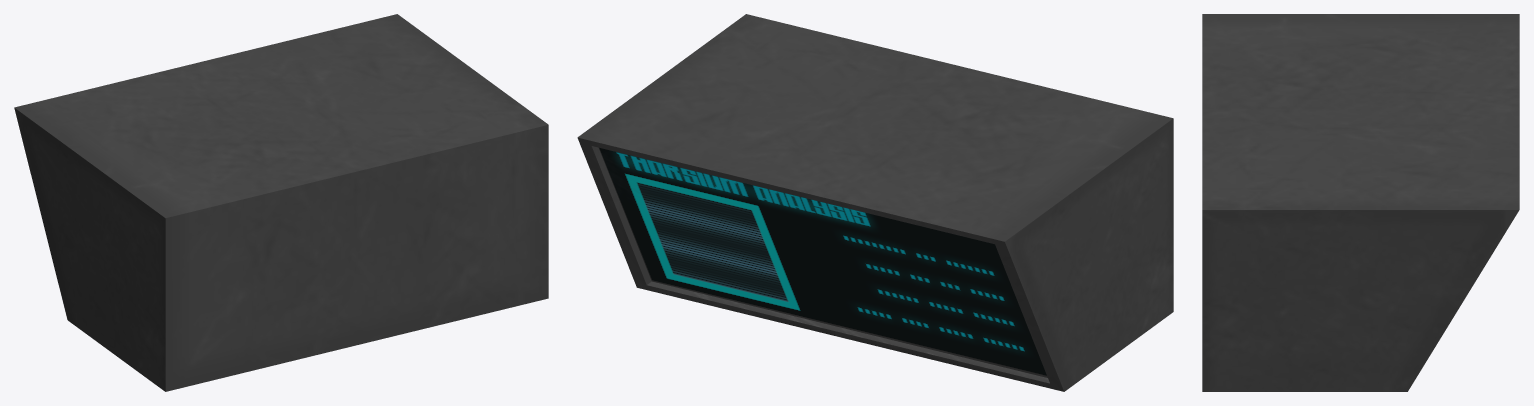
The model's file is mesh_capsule_display.fbx.
The picture shows the model from 3 angles, left to right: view 1: azimuth 30°, elevation 25°; view 2: azimuth 150°, elevation 25°; view 3: azimuth 270°, elevation 25°; orthographic projection. The views are drawn at different scales.
Visible parts, largest first — view 1: mesh_capsule_display; view 2: mesh_capsule_display; view 3: mesh_capsule_display.
Boxes of the visible parts, x1=… form: mesh_capsule_display: x1=14, y1=14, x2=548, y2=391; mesh_capsule_display: x1=577, y1=14, x2=1173, y2=391; mesh_capsule_display: x1=1202, y1=14, x2=1519, y2=391.
Bounding box in the file's own units: 1.56 × 0.6757 × 1.07.
